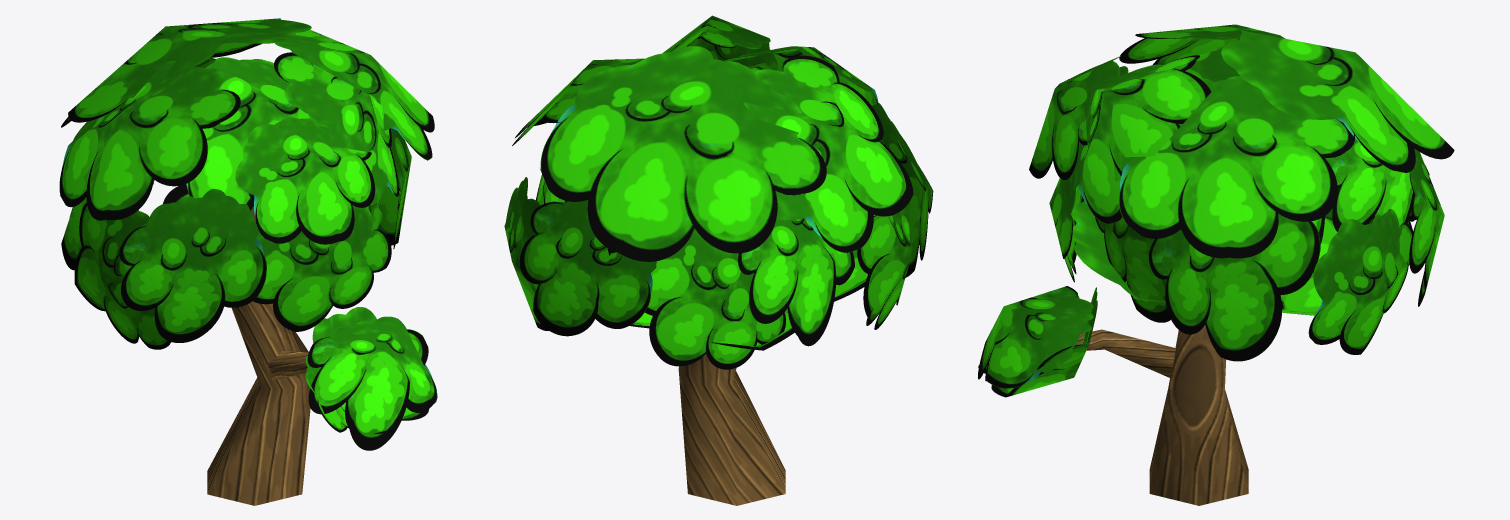
The model's file is Tree002.fbx.
3 renders of one model, left to right at view 1: azimuth 30°, elevation 25°; view 2: azimuth 150°, elevation 25°; view 3: azimuth 270°, elevation 25°, orthographic. The views are drawn at different scales.
Visible parts, largest first — view 1: TODOS:polySurface4; view 2: TODOS:polySurface4; view 3: TODOS:polySurface4.
Part boxes in pixels (left/top/right/bottom): TODOS:polySurface4: left=59, top=18, right=437, bottom=505; TODOS:polySurface4: left=504, top=15, right=933, bottom=505; TODOS:polySurface4: left=978, top=24, right=1454, bottom=505.
Bounding box in the file's own units: 10.15 × 10.73 × 10.91.
